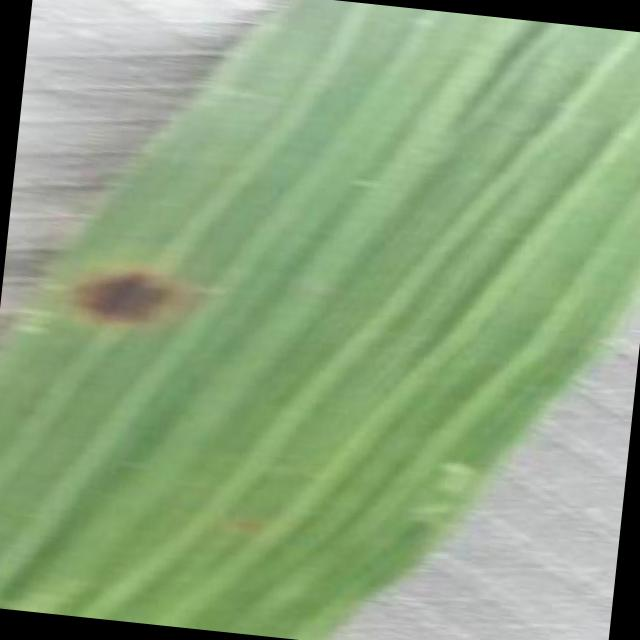Rice_Brownspot: (25, 220, 208, 364)
